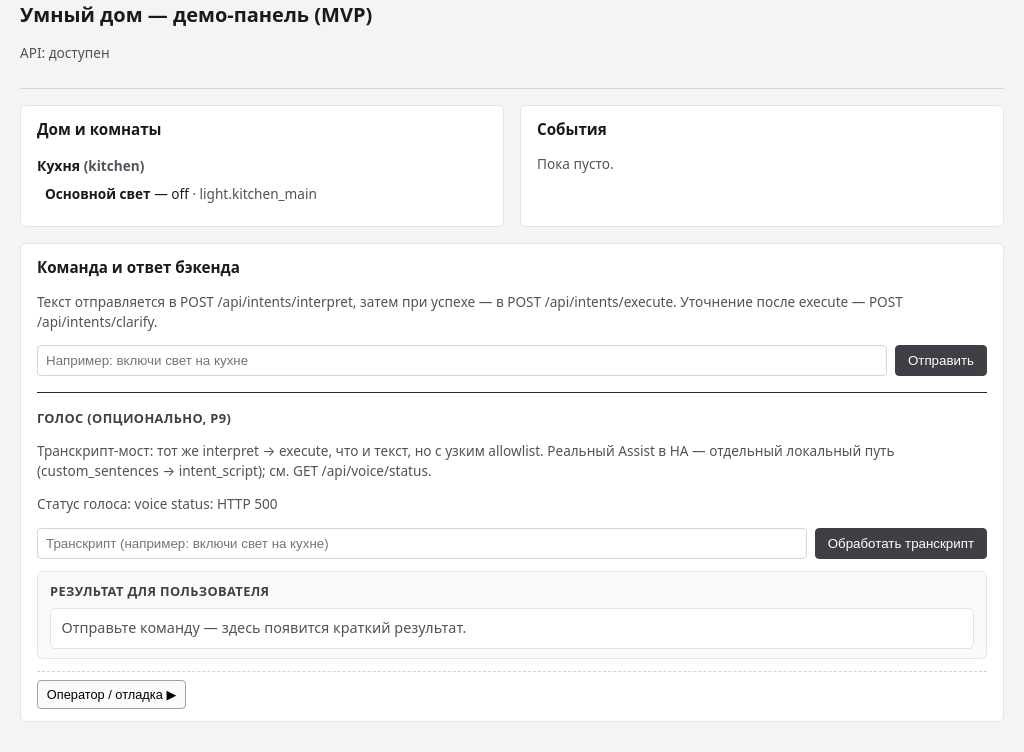
Test: App P6b operator/debug › trace clarification pending shows unsupported-in-UI when interpret clarification unsupported
Check: the element with test id "house-state" is shown, box x1=37 y1=156 x2=317 y2=203
Type "нужно уточнение" into the field with test id "command-input" at (462, 361), box x1=37 y1=345 x2=887 y2=376
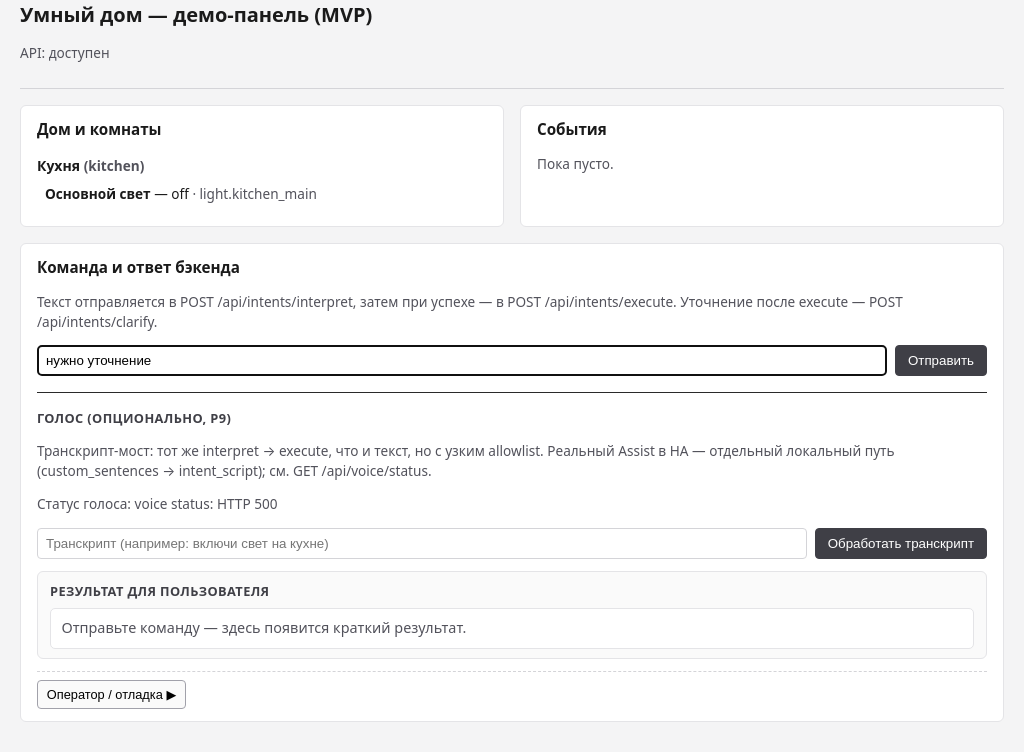
Click the button with test id "command-submit" at (941, 361), box x1=895 y1=345 x2=987 y2=376
(page scrolled)
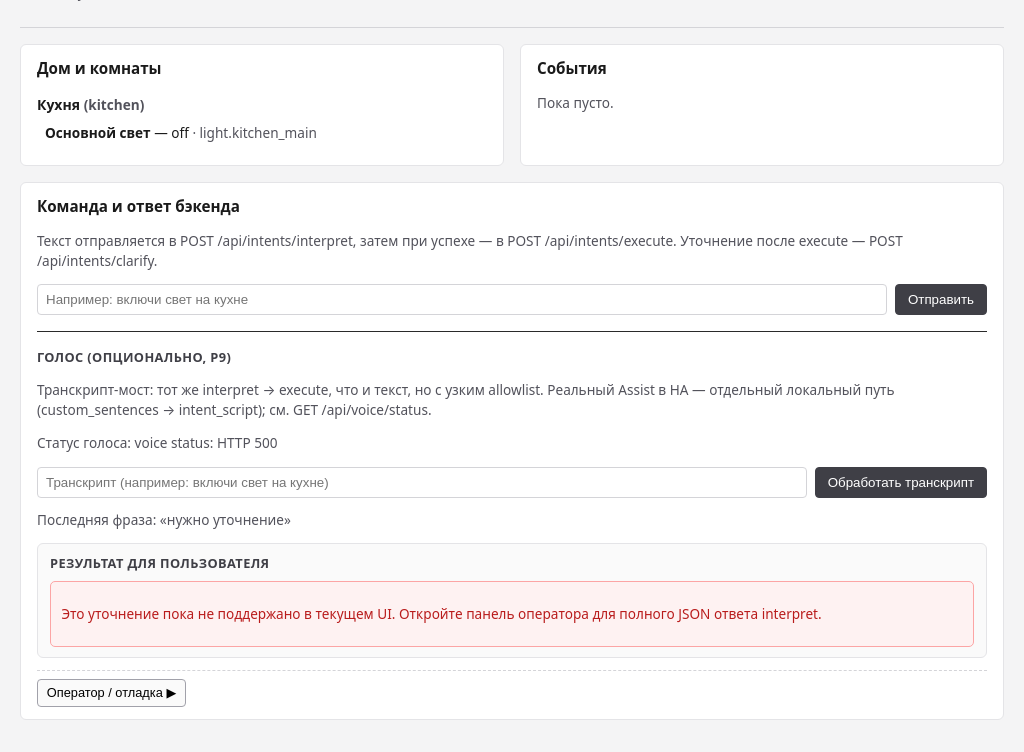
Check: the text with test id "interpret-clarification-unsupported" is shown, box x1=61 y1=604 x2=822 y2=623
Click the button with test id "operator-debug-toggle" at (112, 693), box x1=37 y1=679 x2=186 y2=707
(page scrolled)
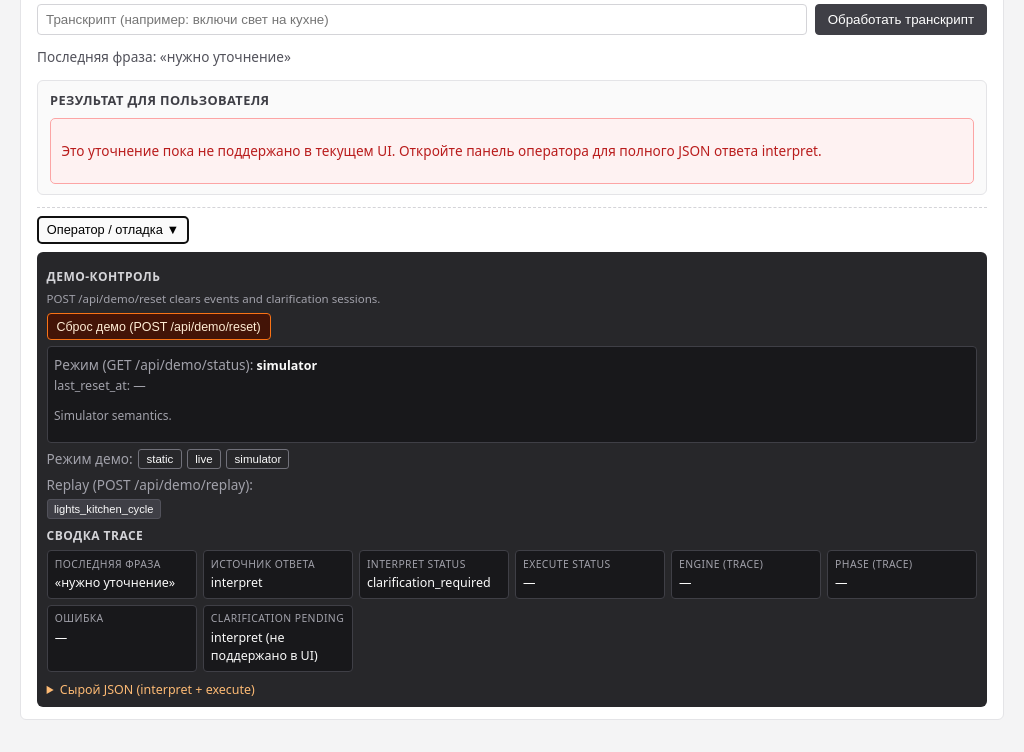
Check: the text with test id "trace-clarification-pending" reads "interpret (не поддержано в UI)", box x1=211 y1=629 x2=318 y2=664
